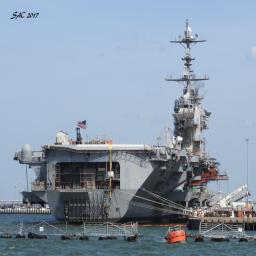Portanaves: (14, 13, 223, 226)
